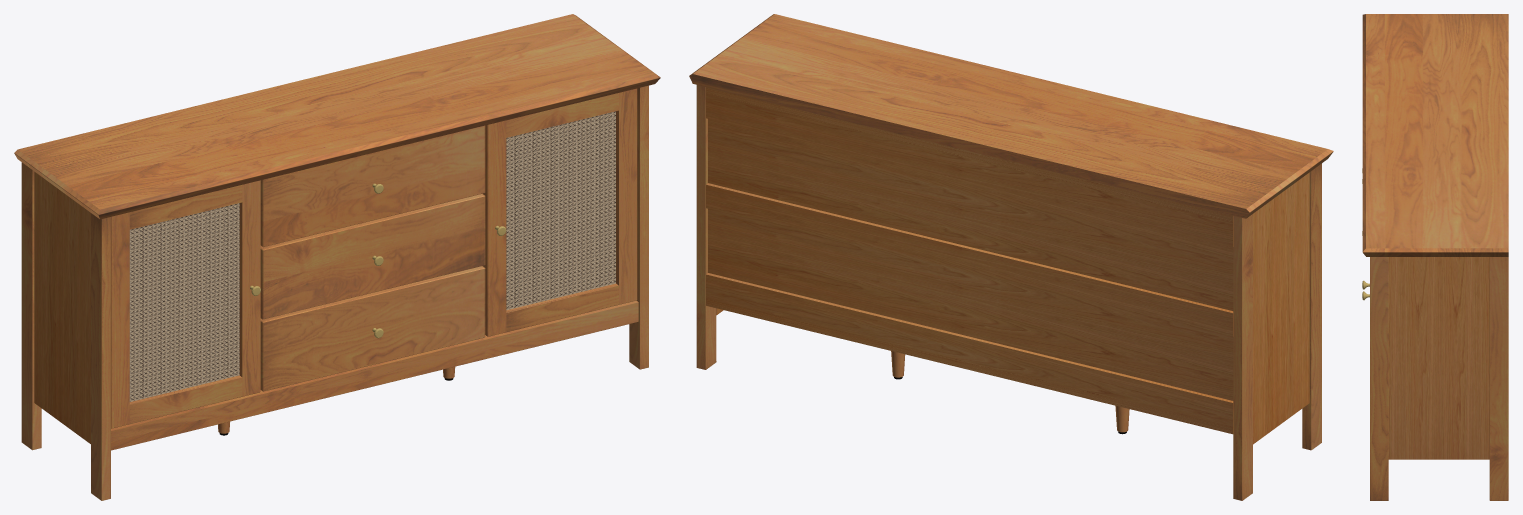
3 views of the same model, side by side, from view 1: azimuth 30°, elevation 25°; view 2: azimuth 150°, elevation 25°; view 3: azimuth 270°, elevation 25° (orthographic). The views are drawn at different scales.
Visible parts, largest first — view 1: object 1, Object_27_Custom_0, Object_32_Custom_0, object 57, object 59, object 58, object 34, object 32, object 8, object 23, object 24, object 19 (+7 smaller); view 2: object 38, object 1, object 40, object 39, object 34, object 41, object 9, object 28, object 33, object 8, object 6; view 3: object 1, object 35, object 6, object 7.
Part boxes in pixels (<box>): object 1: <box>14,14,660,219</box>; Object_27_Custom_0: <box>129,203,239,401</box>; Object_32_Custom_0: <box>506,111,615,310</box>; object 57: <box>260,193,485,319</box>; object 59: <box>260,266,485,391</box>; object 58: <box>260,125,485,247</box>; object 34: <box>34,171,90,443</box>; object 32: <box>111,300,638,450</box>; object 8: <box>91,213,110,500</box>; object 23: <box>483,120,506,336</box>; object 24: <box>616,88,637,304</box>; object 19: <box>239,180,260,396</box>; object 38: <box>708,119,1233,400</box>; object 1: <box>689,14,1333,218</box>; object 40: <box>706,183,1233,336</box>; object 39: <box>706,273,1233,426</box>; object 34: <box>1253,172,1309,444</box>; object 41: <box>706,95,1233,246</box>; object 9: <box>1233,214,1252,500</box>; object 28: <box>706,87,1233,223</box>; object 33: <box>706,298,1233,434</box>; object 8: <box>1302,163,1321,450</box>; object 6: <box>696,85,716,369</box>; object 1: <box>1362,14,1508,256</box>; object 35: <box>1388,257,1489,459</box>; object 6: <box>1489,257,1508,500</box>; object 7: <box>1370,257,1388,500</box>.
Size of the model in its own units: 1.5 by 0.75 by 0.3899.
6 materials, 3 textured.
